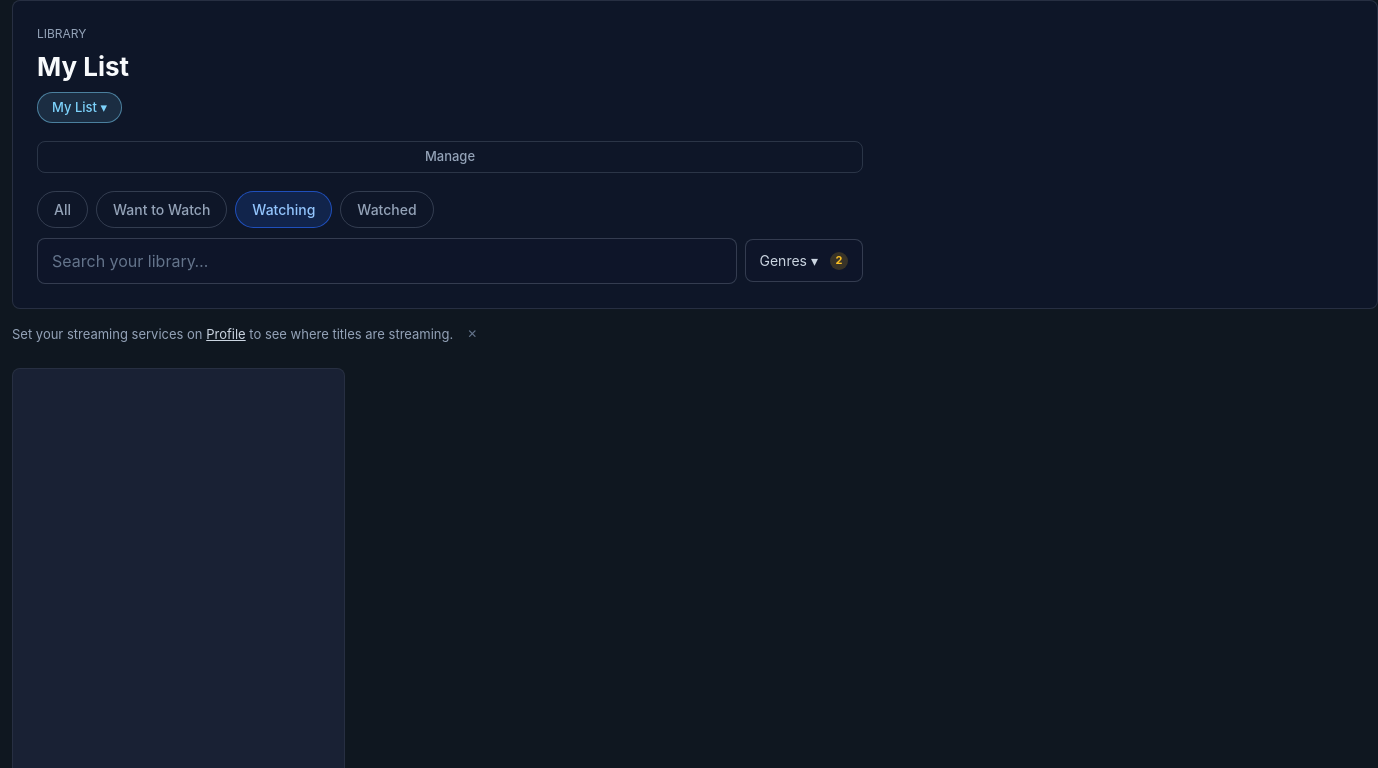
Scenario: LibraryPage genre filter (#382) › round-trips the selection through the URL and badges the count
This screenshot has width=1378, height=768.
Expected: the text named "2 selected" reads "2", [836, 253, 842, 267]
Click the button "Genres ▾ 2" at (804, 261), box [744, 239, 863, 282]
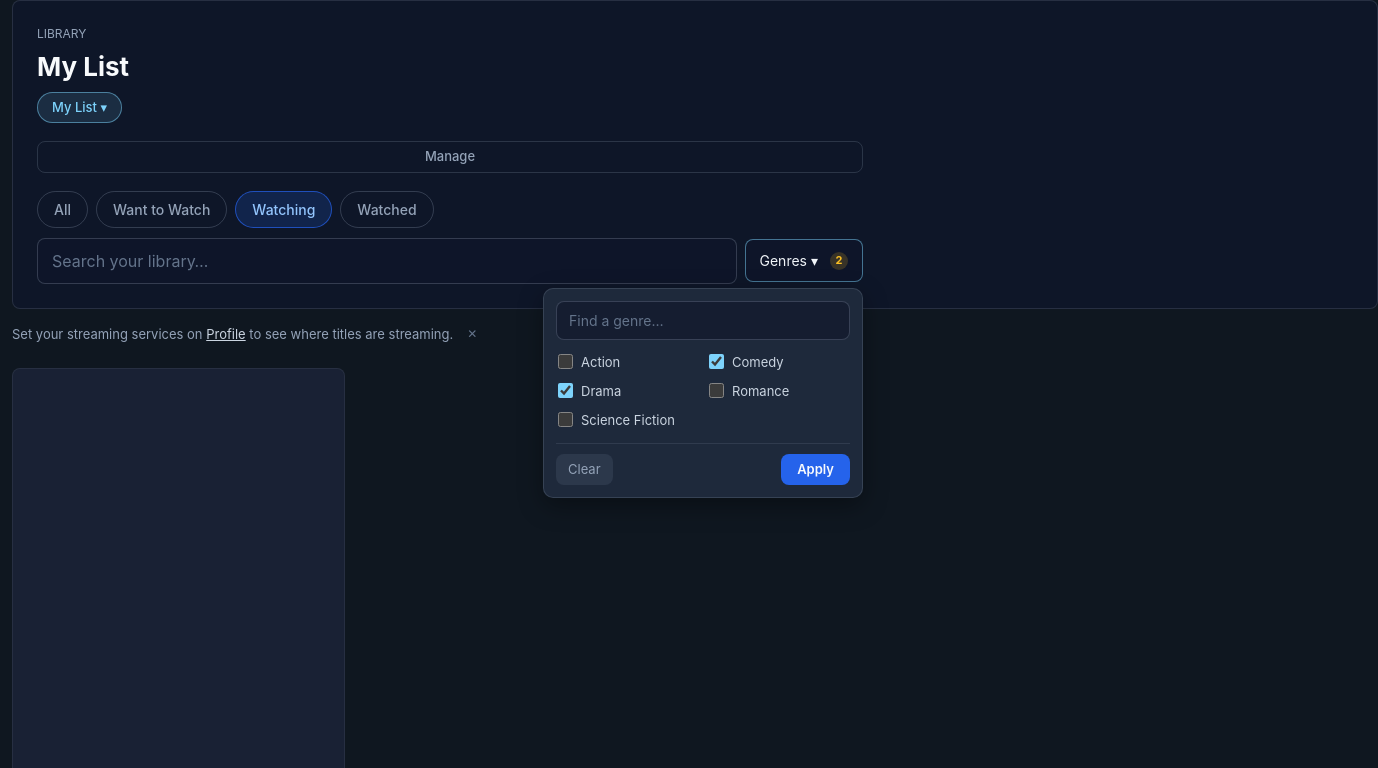
Expected: the checkbox labelled "Comedy" is checked, [709, 354, 724, 369]
Expected: the checkbox labelled "Drama" is checked, [558, 383, 573, 398]
Expected: the checkbox labelled "Romance" is not checked, [709, 383, 724, 398]
